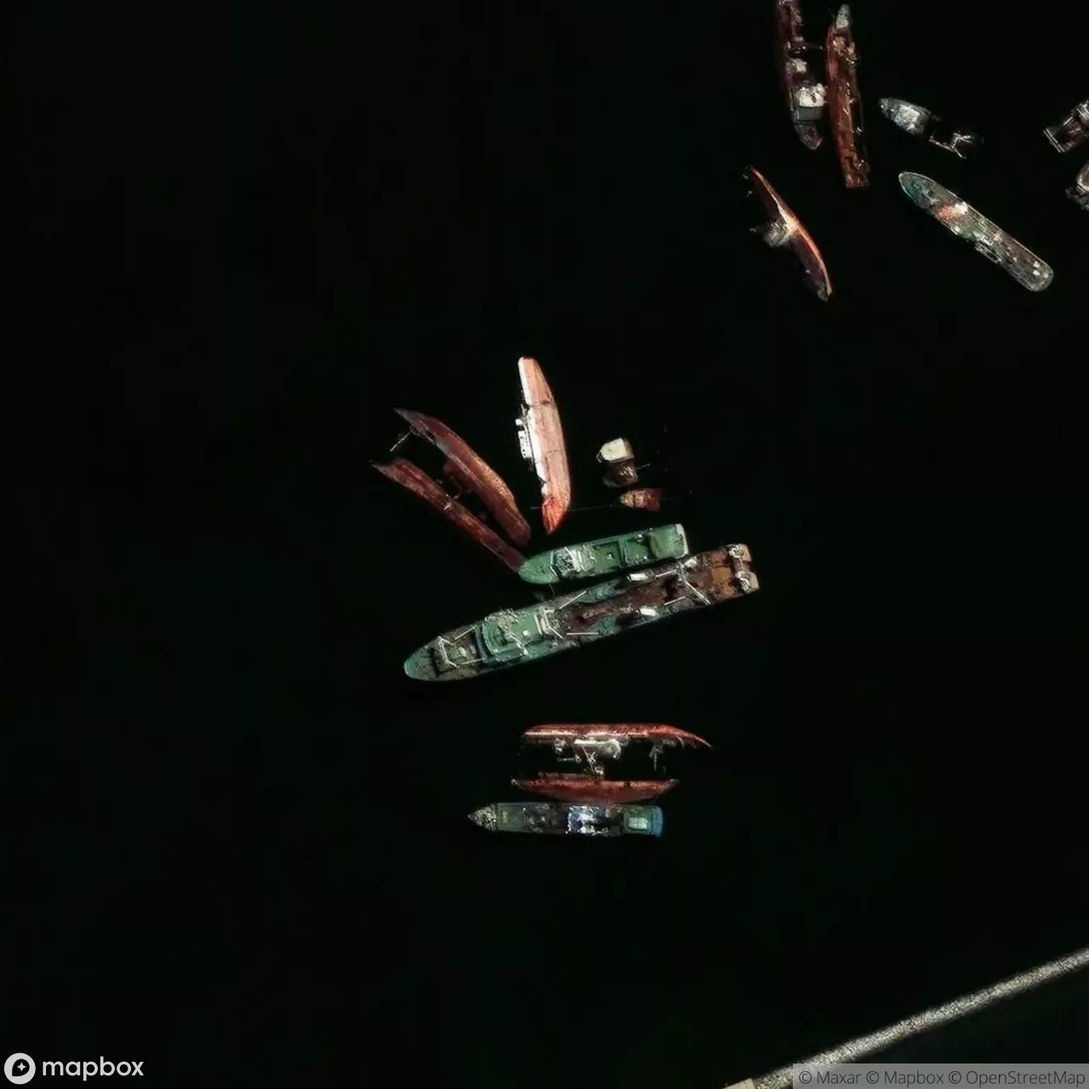Wreck: (315, 356, 823, 859), (684, 6, 1089, 306)
